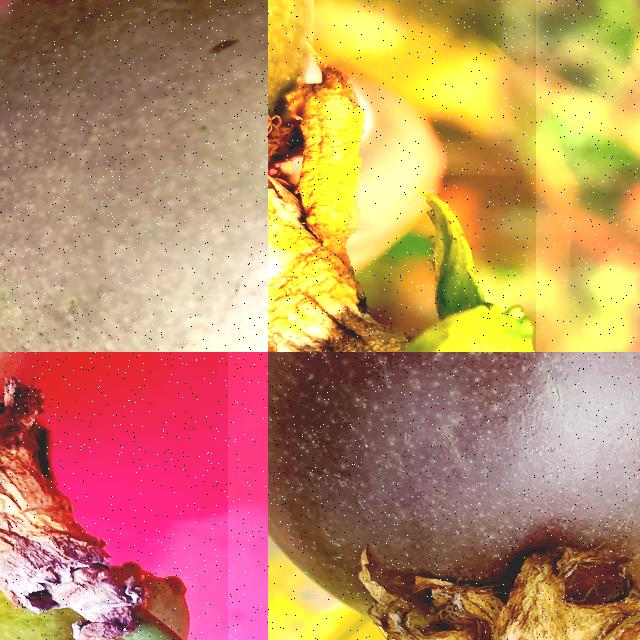Estado-1: (0, 0, 268, 352)
Estado-3: (268, 0, 536, 352)
Estado-6: (268, 352, 640, 640)
